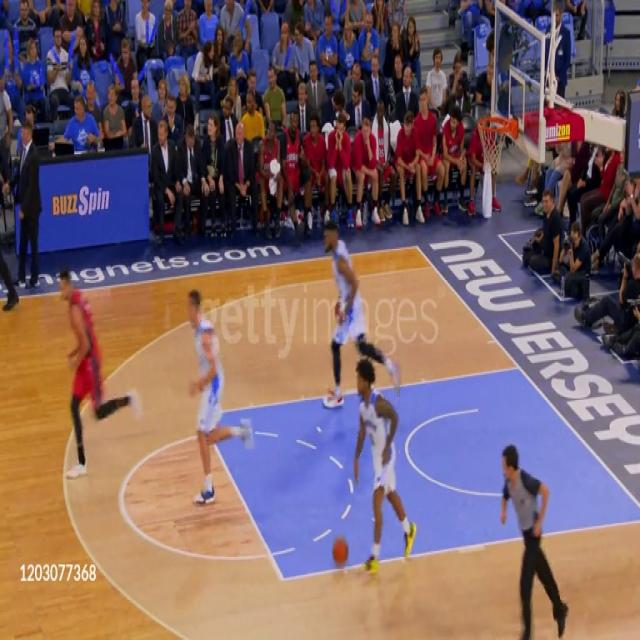ball: (332, 536, 348, 568)
